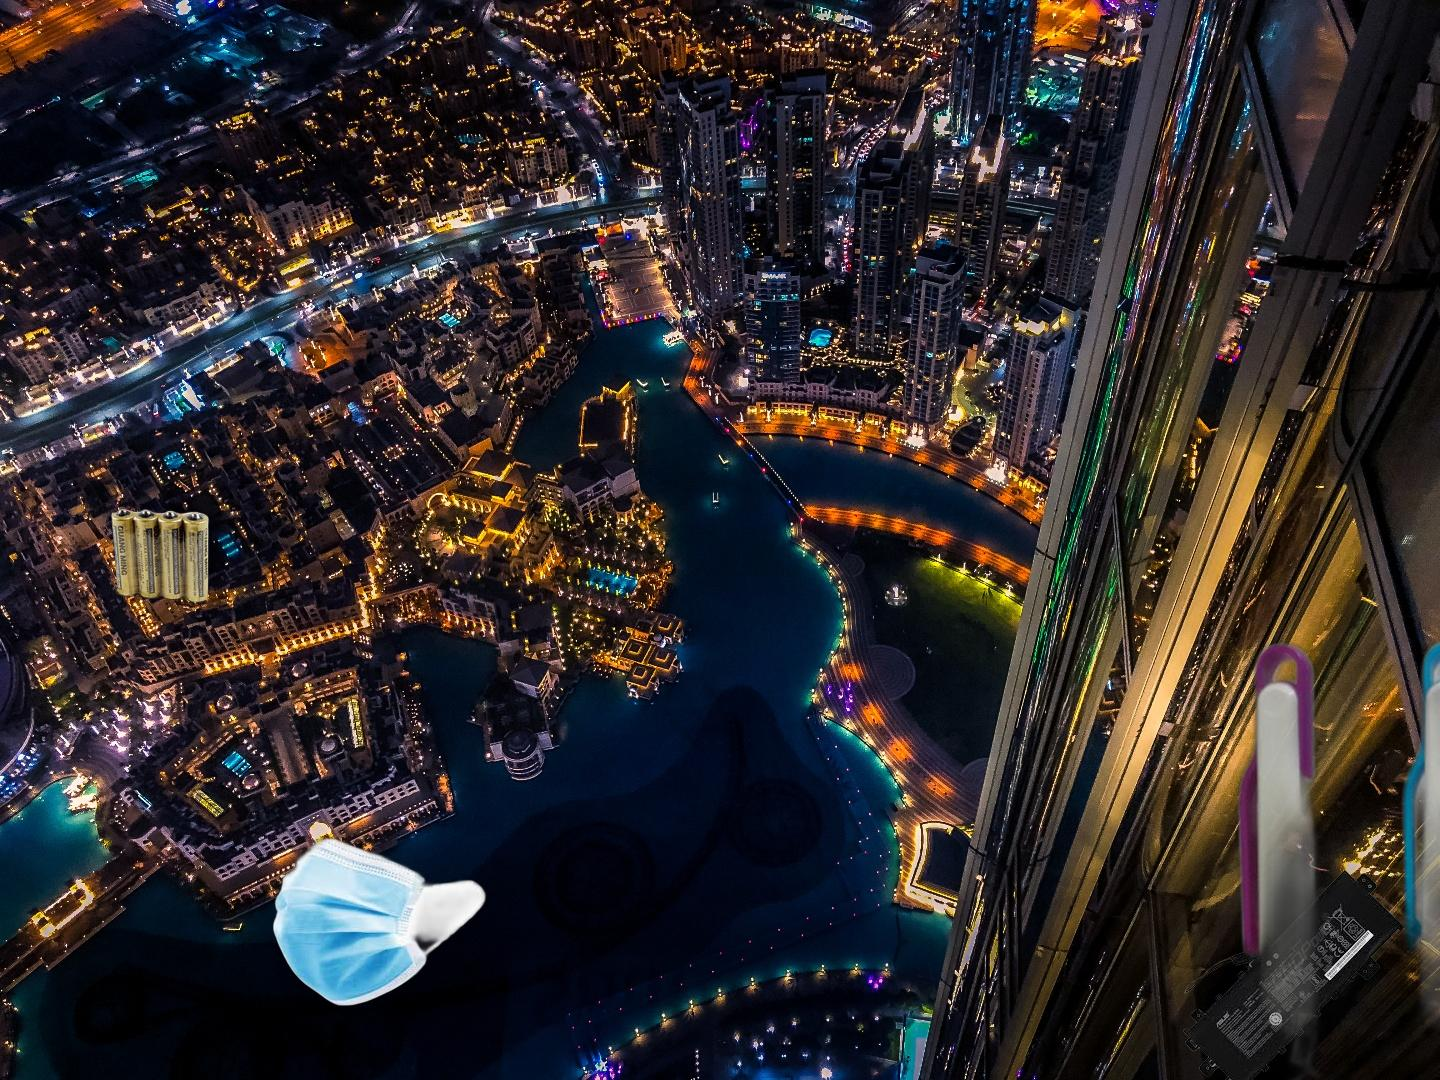battery: (1181, 869, 1406, 1080), (108, 504, 212, 605)
penholder: (1036, 628, 1440, 1080)
trash: (270, 824, 492, 1009)
